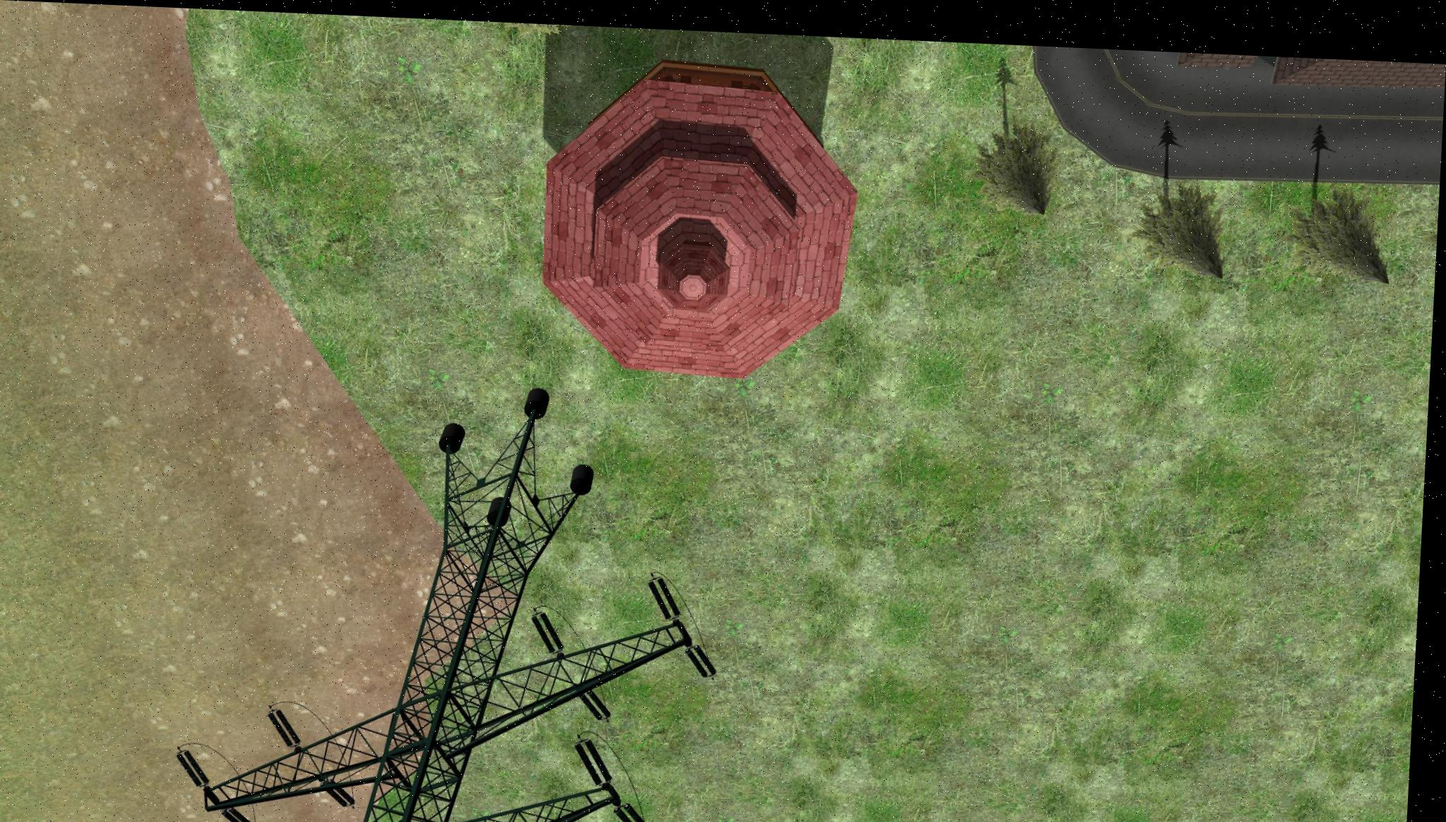tower: (192, 415, 707, 822)
